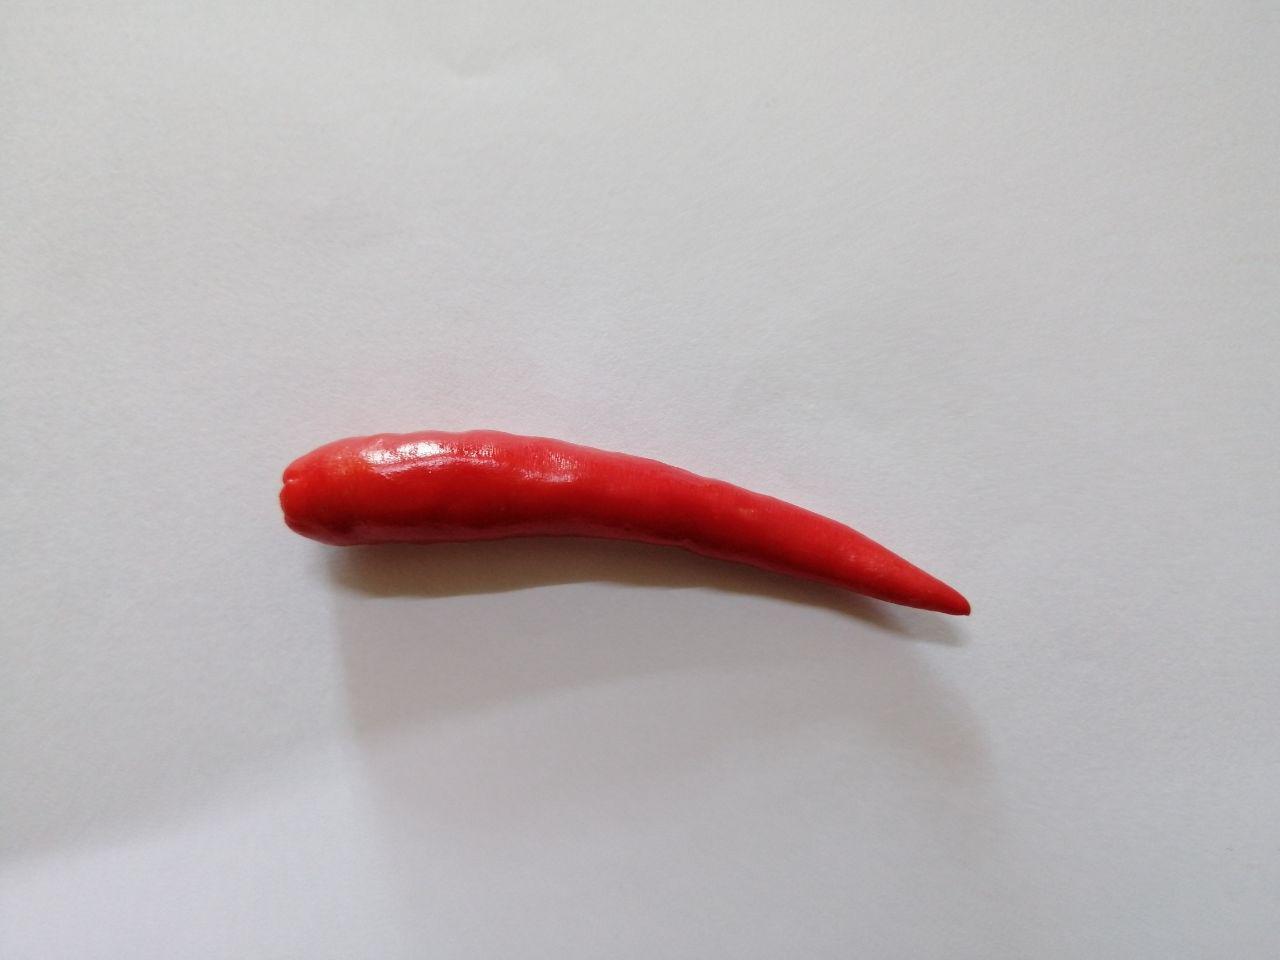lada merah: (256, 399, 1005, 647)
